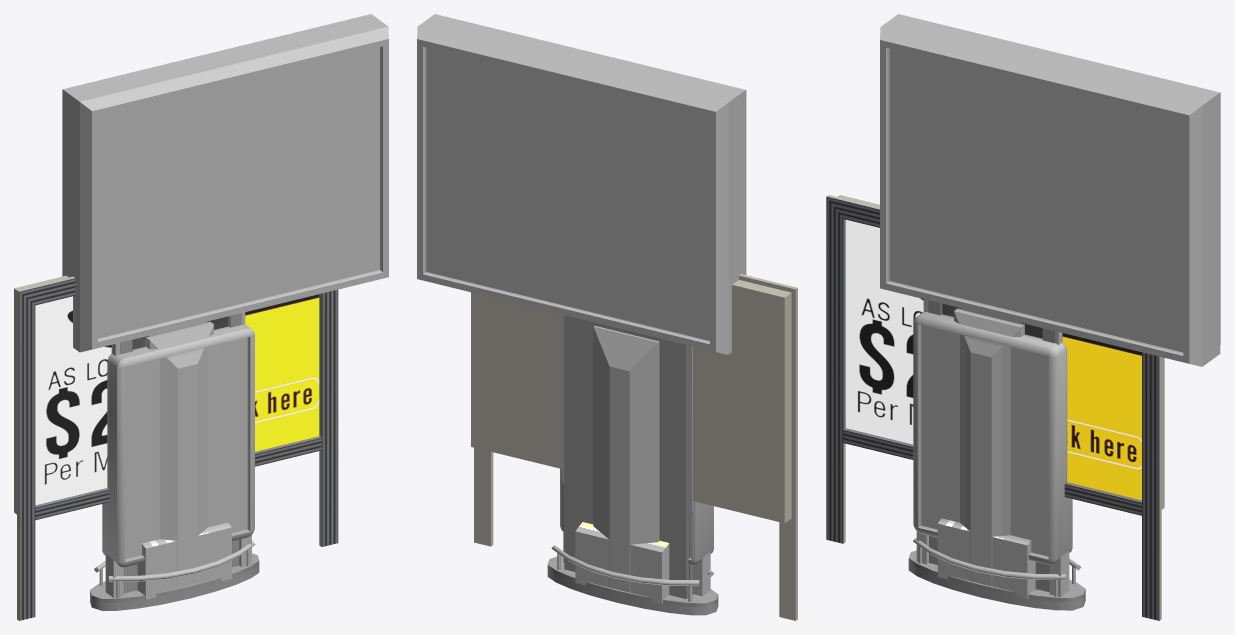
Rendered from advertising board.FBX.
The picture shows the model from 3 angles, left to right: view 1: azimuth 30°, elevation 25°; view 2: azimuth 150°, elevation 25°; view 3: azimuth 330°, elevation 25°; orthographic projection. The views are drawn at different scales.
Visible parts, largest first — view 1: Advertising board_2, Advertising board_6, Advertising board_4, Advertising board_1, Advertising board_5, Advertising board_3; view 2: Advertising board_2, Advertising board_6, Advertising board_1, Advertising board_5, Advertising board_4, Advertising board_3; view 3: Advertising board_2, Advertising board_6, Advertising board_4, Advertising board_1, Advertising board_5, Advertising board_3.
Boxes of the visible parts, x1,y1,x2,y2 form: Advertising board_2: [62, 14, 388, 588]; Advertising board_6: [14, 275, 338, 620]; Advertising board_4: [102, 324, 254, 597]; Advertising board_1: [90, 313, 259, 610]; Advertising board_5: [137, 522, 231, 599]; Advertising board_3: [111, 312, 245, 356]; Advertising board_2: [417, 14, 746, 592]; Advertising board_6: [471, 274, 797, 620]; Advertising board_1: [547, 315, 718, 615]; Advertising board_5: [575, 522, 669, 603]; Advertising board_4: [560, 468, 713, 596]; Advertising board_3: [561, 314, 693, 517]; Advertising board_2: [880, 14, 1220, 586]; Advertising board_6: [826, 195, 1164, 620]; Advertising board_4: [913, 312, 1072, 596]; Advertising board_1: [908, 300, 1085, 610]; Advertising board_5: [937, 518, 1035, 598]; Advertising board_3: [923, 299, 1062, 344].
Size of the model in its own units: 3.69 by 5 by 0.7325.
